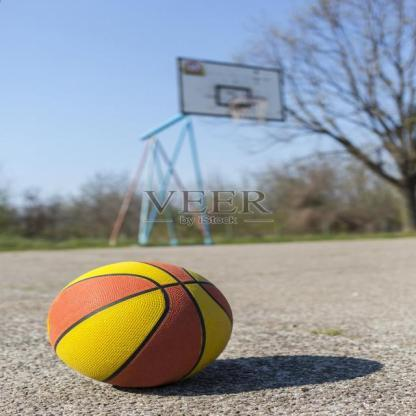basketball: (49, 262, 234, 388)
rim: (218, 91, 280, 140)
